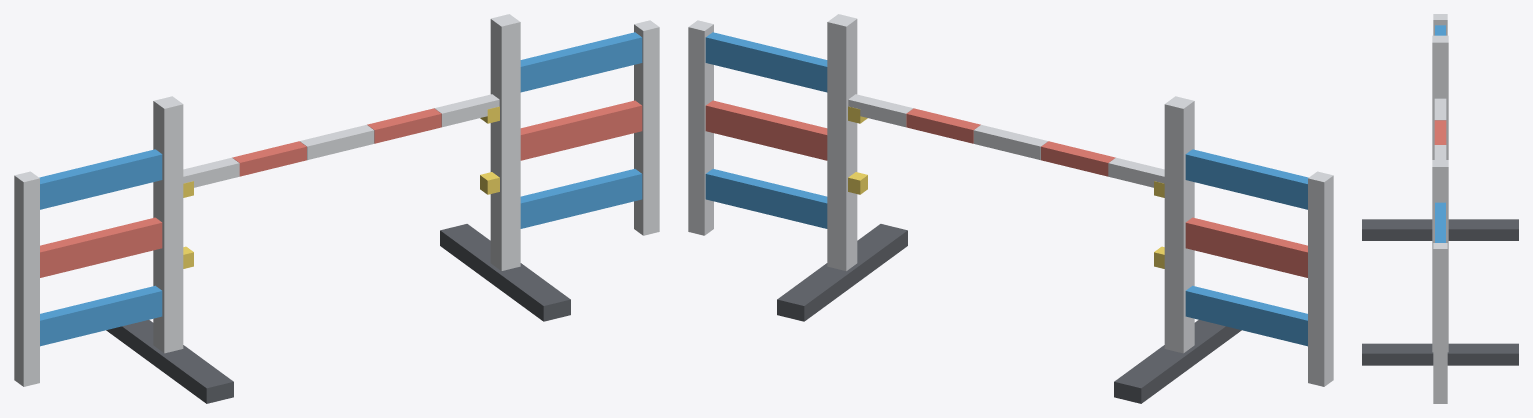
The model's file is dog-agility-and-training-field-hurdle-jump-high-b2051ee0__35577.glb.
The picture shows the model from 3 angles, left to right: view 1: azimuth 30°, elevation 25°; view 2: azimuth 150°, elevation 25°; view 3: azimuth 270°, elevation 25°; orthographic projection. The views are drawn at different scales.
Visible parts, largest first — view 1: hurdle-jump-high-steel, hurdle-jump-high-azure, hurdle-jump-high-charcoal, hurdle-jump-high-poppy, bar/steel, bar/poppy, hurdle-jump-high-sunflower; view 2: hurdle-jump-high-steel, hurdle-jump-high-azure, hurdle-jump-high-charcoal, hurdle-jump-high-poppy, bar/steel, bar/poppy, hurdle-jump-high-sunflower; view 3: hurdle-jump-high-charcoal, hurdle-jump-high-steel, hurdle-jump-high-azure, bar/steel, bar/poppy.
Part boxes in pixels (bbox=[...]): hurdle-jump-high-steel: bbox=[14, 14, 659, 386]; hurdle-jump-high-azure: bbox=[39, 32, 642, 346]; hurdle-jump-high-charcoal: bbox=[106, 224, 570, 403]; hurdle-jump-high-poppy: bbox=[40, 100, 642, 277]; bar/steel: bbox=[183, 94, 499, 187]; bar/poppy: bbox=[232, 108, 441, 176]; hurdle-jump-high-sunflower: bbox=[183, 106, 499, 268]; hurdle-jump-high-steel: bbox=[688, 14, 1333, 386]; hurdle-jump-high-azure: bbox=[705, 32, 1308, 346]; hurdle-jump-high-charcoal: bbox=[777, 224, 1241, 403]; hurdle-jump-high-poppy: bbox=[705, 100, 1307, 277]; bar/steel: bbox=[848, 94, 1164, 187]; bar/poppy: bbox=[906, 108, 1115, 176]; hurdle-jump-high-sunflower: bbox=[848, 106, 1164, 268]; hurdle-jump-high-charcoal: bbox=[1362, 219, 1518, 365]; hurdle-jump-high-steel: bbox=[1432, 14, 1448, 403]; hurdle-jump-high-azure: bbox=[1435, 25, 1445, 242]; bar/steel: bbox=[1434, 98, 1446, 159]; bar/poppy: bbox=[1434, 120, 1446, 144].
Size of the model in its own units: 2.34 by 0.9149 by 0.6599.
